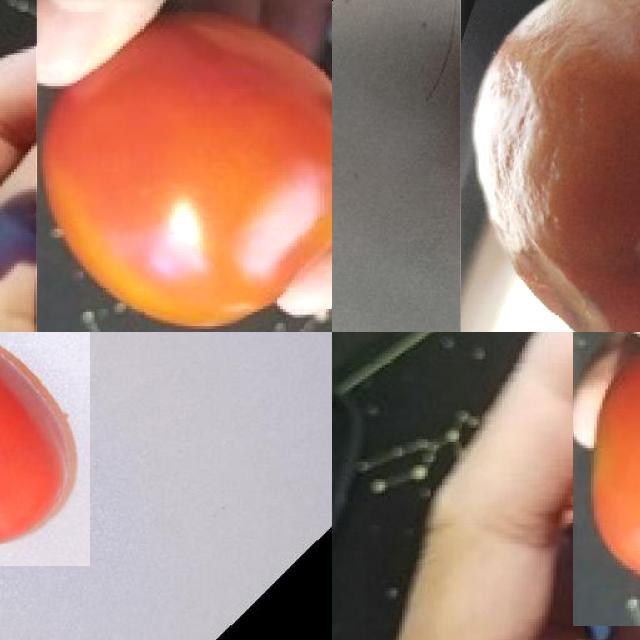Fresh Tomato: (36, 0, 332, 332), (0, 332, 89, 566), (573, 332, 640, 626)
Rotten Tomato: (460, 0, 640, 332)
